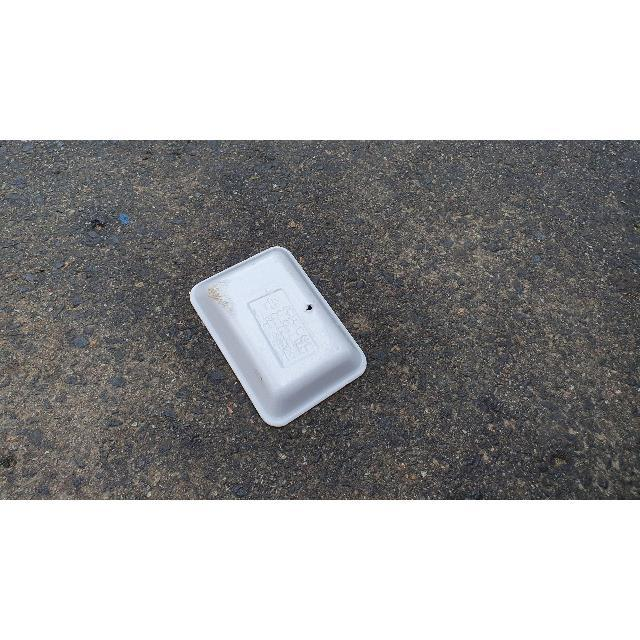Plastico descartable: (188, 247, 368, 429)
